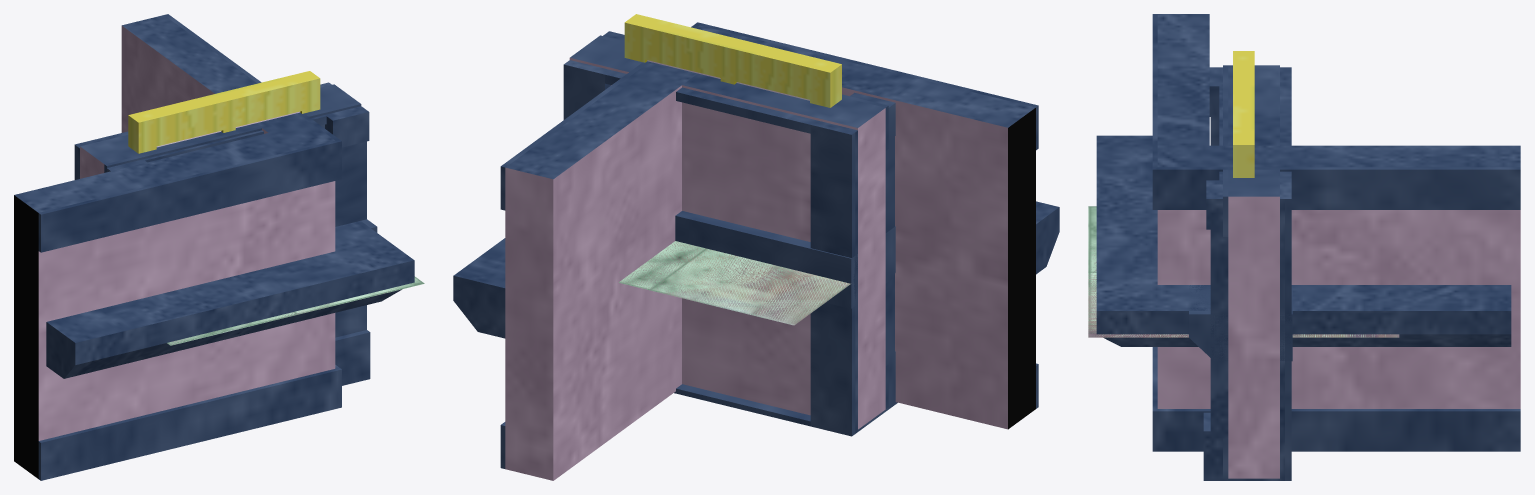
File: Building Pieces v1.fbx
The picture shows the model from 3 angles, left to right: view 1: azimuth 30°, elevation 25°; view 2: azimuth 150°, elevation 25°; view 3: azimuth 270°, elevation 25°; orthographic projection. The views are drawn at different scales.
Parts seen in each view (by area): view 1: Corner 1, Ledge Corner, Door 1 Door, Door 1 Frame, Base Wall 1, Ceiling; view 2: Corner 1, Base Wall 1, Door 1 Frame, Door 1 Door, Ceiling, Floor 1, Ledge 1, Ledge Corner; view 3: Corner 1, Ledge Corner, Base Wall 1, Door 1 Frame, Door 1 Door, Ledge 1, Floor 1, Ceiling.
Boxes of the visible parts, x1=… form: Corner 1: x1=14, y1=14, x2=341, y2=480; Ledge Corner: x1=46, y1=221, x2=414, y2=378; Door 1 Door: x1=128, y1=71, x2=320, y2=153; Door 1 Frame: x1=74, y1=82, x2=370, y2=385; Base Wall 1: x1=80, y1=84, x2=361, y2=178; Ceiling: x1=167, y1=276, x2=424, y2=345; Corner 1: x1=500, y1=22, x2=1038, y2=480; Base Wall 1: x1=569, y1=35, x2=888, y2=429; Door 1 Frame: x1=563, y1=31, x2=897, y2=436; Door 1 Door: x1=624, y1=14, x2=841, y2=107; Ceiling: x1=619, y1=241, x2=850, y2=323; Floor 1: x1=620, y1=242, x2=850, y2=325; Ledge 1: x1=675, y1=211, x2=895, y2=308; Ledge Corner: x1=453, y1=201, x2=1059, y2=338; Corner 1: x1=1152, y1=14, x2=1520, y2=451; Ledge Corner: x1=1096, y1=135, x2=1511, y2=346; Base Wall 1: x1=1223, y1=65, x2=1279, y2=478; Door 1 Frame: x1=1203, y1=67, x2=1291, y2=480; Door 1 Door: x1=1233, y1=51, x2=1254, y2=177; Ledge 1: x1=1189, y1=285, x2=1292, y2=361; Floor 1: x1=1088, y1=245, x2=1399, y2=337; Ceiling: x1=1088, y1=206, x2=1396, y2=337.
Bounding box in the file's own units: 8.34 × 8.34 × 6.75.
1 material, 1 textured.
